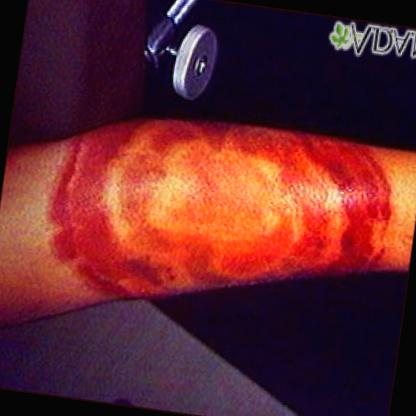Ringworm: (49, 99, 402, 359)
